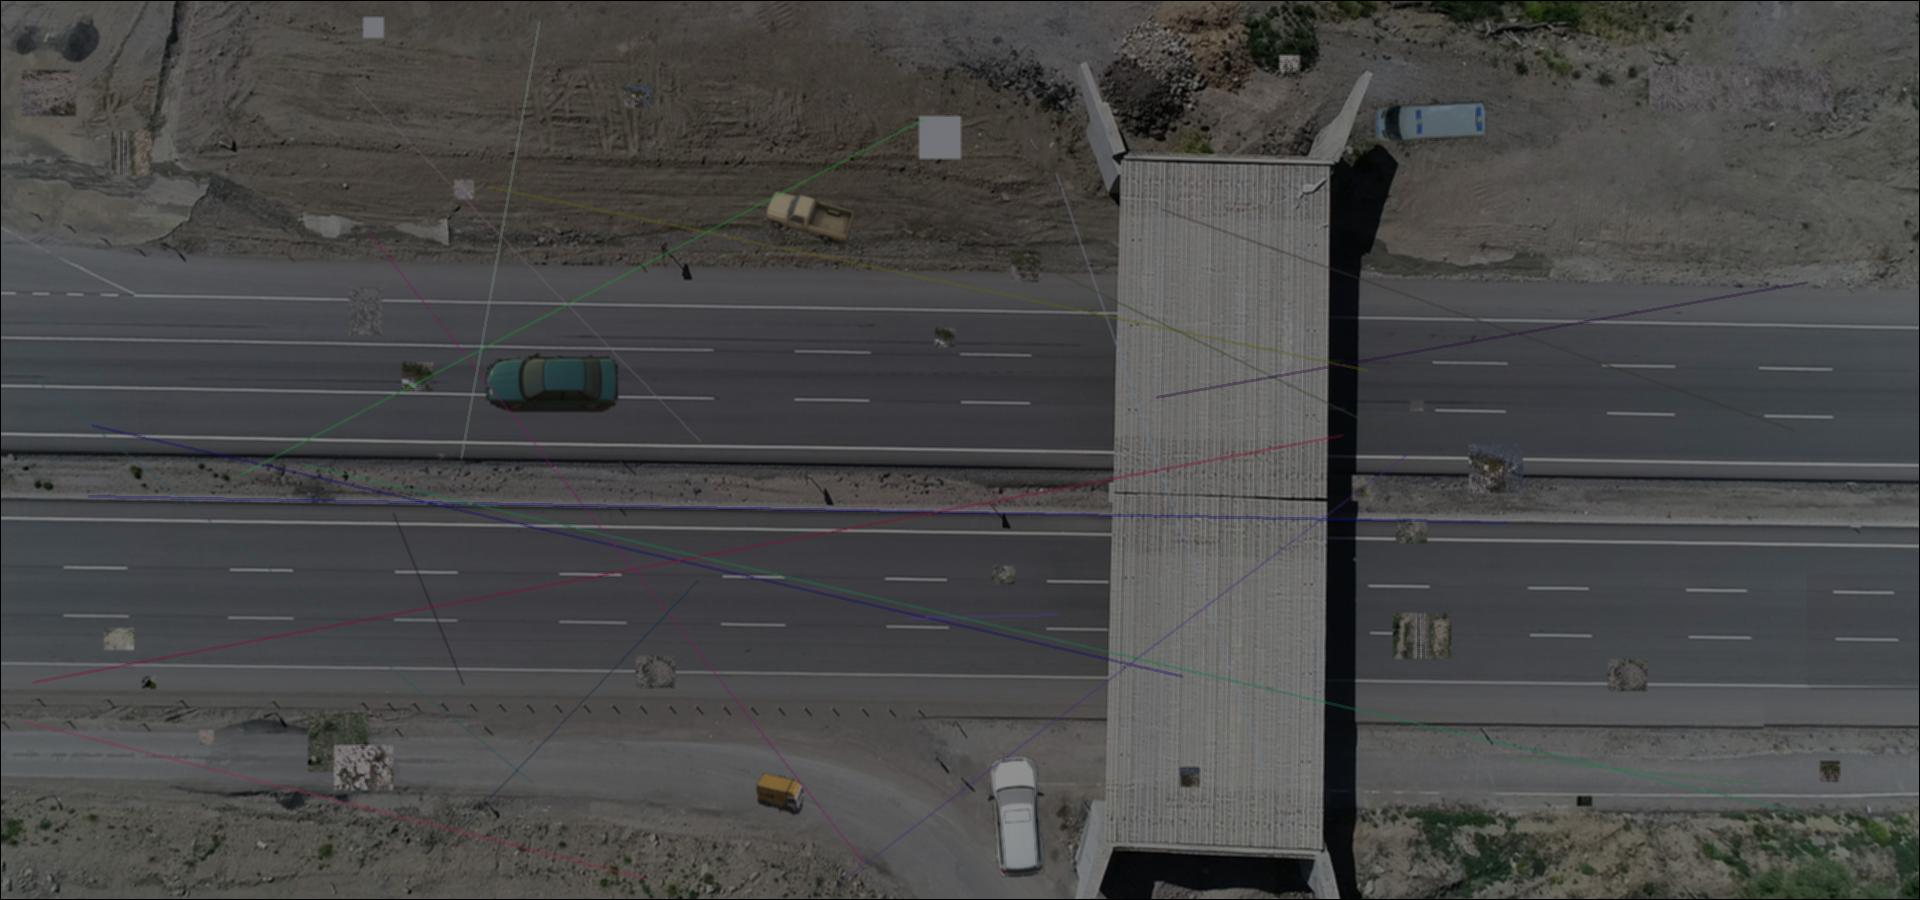arac: (982, 754, 1051, 879), (484, 353, 624, 411), (1371, 97, 1488, 146), (765, 189, 853, 246), (756, 773, 804, 816)
